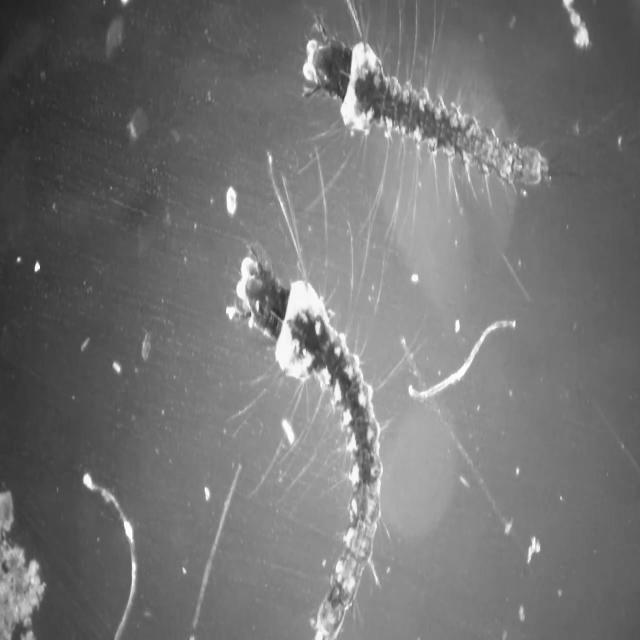larvas: (238, 241, 383, 640), (308, 43, 545, 185)
